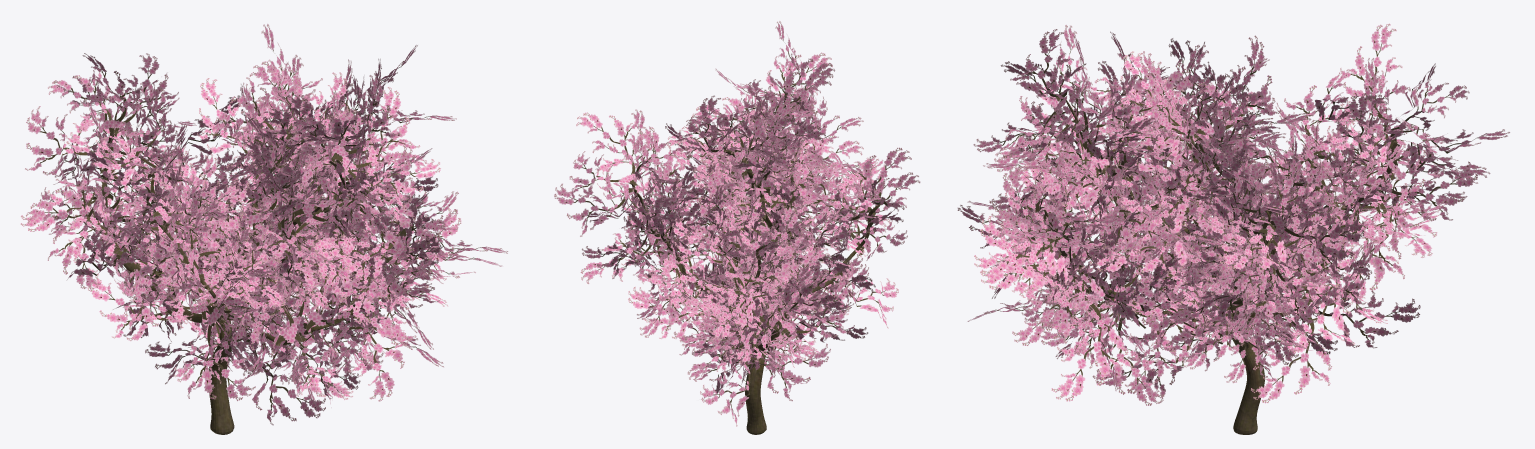
The model's file is sakura_tree_1.glb.
3 views of the same model, side by side, from view 1: azimuth 30°, elevation 25°; view 2: azimuth 150°, elevation 25°; view 3: azimuth 270°, elevation 25° (orthographic). The views are drawn at different scales.
Visible parts, largest first — view 1: Tree2, Tree2|Branch light|Dupli|229, Tree2|Branch light|Dupli|153, Tree2|Branch light|Dupli|113, Tree2|Branch light|Dupli|87, Tree2|Branch light|Dupli|83, Tree2|Branch light|Dupli|72, Tree2|Branch light|Dupli|108, Tree2|Branch light|Dupli|141, Tree2|Branch light|Dupli|184, Tree2|Branch light|Dupli|74, Tree2|Branch light|Dupli|70 (+89 smaller); view 2: Tree2, Tree2|Branch light|Dupli|247, Tree2|Branch light|Dupli|298, Tree2|Branch light|Dupli|296, Tree2|Branch light|Dupli|238, Tree2|Branch light|Dupli|23, Tree2|Branch light|Dupli|68, Tree2|Branch light|Dupli|344, Tree2|Branch light|Dupli|152, Tree2|Branch light|Dupli|153, Tree2|Branch light|Dupli|269, Tree2|Branch light|Dupli|347 (+78 smaller); view 3: Tree2, Tree2|Branch light|Dupli|117, Tree2|Branch light|Dupli|347, Tree2|Branch light|Dupli|296, Tree2|Branch light|Dupli|56, Tree2|Branch light|Dupli|256, Tree2|Branch light|Dupli|142, Tree2|Branch light|Dupli|186, Tree2|Branch light|Dupli|149, Tree2|Branch light|Dupli|103, Tree2|Branch light|Dupli|138, Tree2|Branch light|Dupli|58 (+108 smaller).
Boxes of the visible parts, x1,y1,x2,y2 form: Tree2: (102, 128, 400, 434); Tree2|Branch light|Dupli|229: (183, 305, 255, 401); Tree2|Branch light|Dupli|153: (26, 174, 124, 263); Tree2|Branch light|Dupli|113: (327, 326, 416, 401); Tree2|Branch light|Dupli|87: (242, 336, 325, 425); Tree2|Branch light|Dupli|83: (333, 140, 440, 210); Tree2|Branch light|Dupli|72: (339, 87, 420, 171); Tree2|Branch light|Dupli|108: (196, 260, 306, 350); Tree2|Branch light|Dupli|141: (341, 229, 432, 346); Tree2|Branch light|Dupli|184: (25, 106, 113, 175); Tree2|Branch light|Dupli|74: (338, 172, 445, 266); Tree2|Branch light|Dupli|70: (317, 205, 402, 300); Tree2: (631, 99, 880, 434); Tree2|Branch light|Dupli|247: (793, 148, 874, 220); Tree2|Branch light|Dupli|298: (576, 112, 643, 185); Tree2|Branch light|Dupli|296: (554, 168, 633, 236); Tree2|Branch light|Dupli|238: (846, 147, 911, 225); Tree2|Branch light|Dupli|23: (685, 166, 765, 257); Tree2|Branch light|Dupli|68: (768, 70, 831, 145); Tree2|Branch light|Dupli|344: (745, 110, 825, 165); Tree2|Branch light|Dupli|152: (781, 276, 850, 338); Tree2|Branch light|Dupli|153: (783, 278, 845, 333); Tree2|Branch light|Dupli|269: (580, 231, 672, 284); Tree2|Branch light|Dupli|347: (675, 95, 742, 152); Tree2: (1044, 100, 1397, 434); Tree2|Branch light|Dupli|117: (1047, 300, 1132, 401); Tree2|Branch light|Dupli|347: (1194, 35, 1280, 139); Tree2|Branch light|Dupli|296: (1263, 196, 1364, 276); Tree2|Branch light|Dupli|56: (1098, 166, 1180, 262); Tree2|Branch light|Dupli|256: (1132, 275, 1230, 351); Tree2|Branch light|Dupli|142: (974, 221, 1057, 285); Tree2|Branch light|Dupli|186: (1340, 23, 1410, 132); Tree2|Branch light|Dupli|149: (1251, 302, 1331, 403); Tree2|Branch light|Dupli|103: (1094, 302, 1164, 405); Tree2|Branch light|Dupli|138: (980, 233, 1068, 292); Tree2|Branch light|Dupli|58: (1107, 69, 1199, 168).
Bounding box in the file's own units: 16.81 × 17.2 × 19.99.
2 materials, 2 textured.
